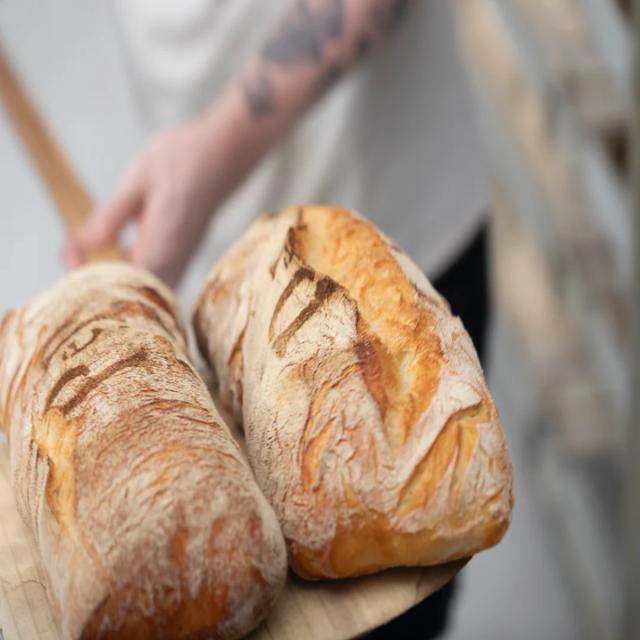Ciabatta: (193, 205, 513, 580), (0, 260, 286, 639)
